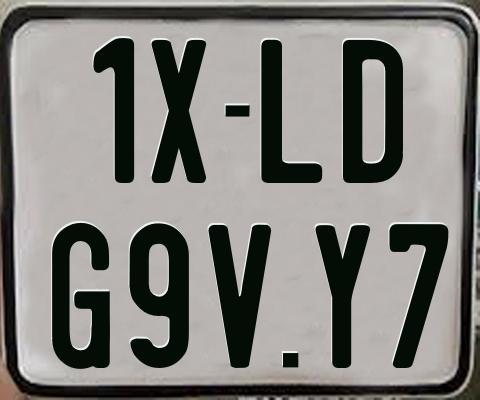1: (93, 35, 135, 182)
7: (388, 224, 449, 370)
9: (129, 221, 192, 368)
D: (343, 37, 408, 185)
G: (49, 221, 113, 370)
L: (261, 38, 327, 186)
V: (209, 225, 271, 373)
X: (149, 39, 205, 185)
Y: (312, 224, 370, 367)
